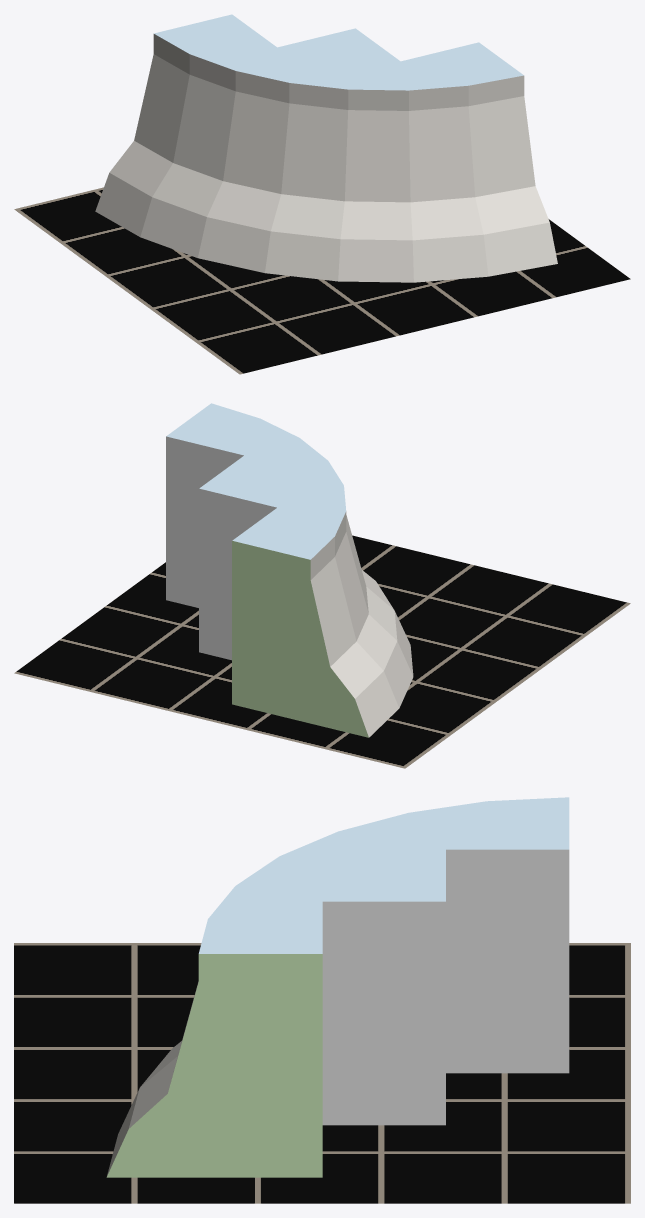
The model's file is Wall_Curve_Outer_4x4_Base.glb.
The picture shows the model from 3 angles, top to bottom: view 1: azimuth 30°, elevation 25°; view 2: azimuth 150°, elevation 25°; view 3: azimuth 270°, elevation 25°; orthographic projection. The views are drawn at different scales.
Visible parts, largest first — view 1: Wall_Curve_Outer_4x4_Base, Floor; view 2: Wall_Curve_Outer_4x4_Base, Floor; view 3: Wall_Curve_Outer_4x4_Base, Floor.
Part boxes in pixels (x1,y1,x2,y2): Wall_Curve_Outer_4x4_Base: [95, 14, 557, 282]; Floor: [14, 187, 630, 374]; Wall_Curve_Outer_4x4_Base: [166, 403, 413, 737]; Floor: [14, 535, 630, 768]; Wall_Curve_Outer_4x4_Base: [106, 797, 569, 1177]; Floor: [14, 943, 630, 1203].
Size of the model in its own units: 500 by 200 by 500.
5 materials, 1 textured.
